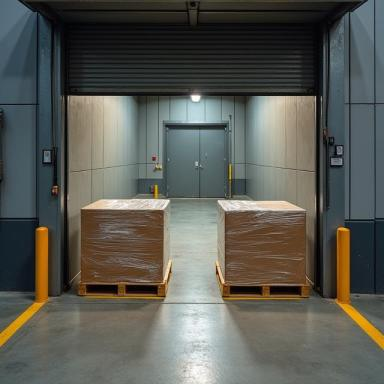pallet: (77, 259, 172, 297), (215, 260, 309, 298), (230, 286, 261, 296), (87, 285, 118, 292)
